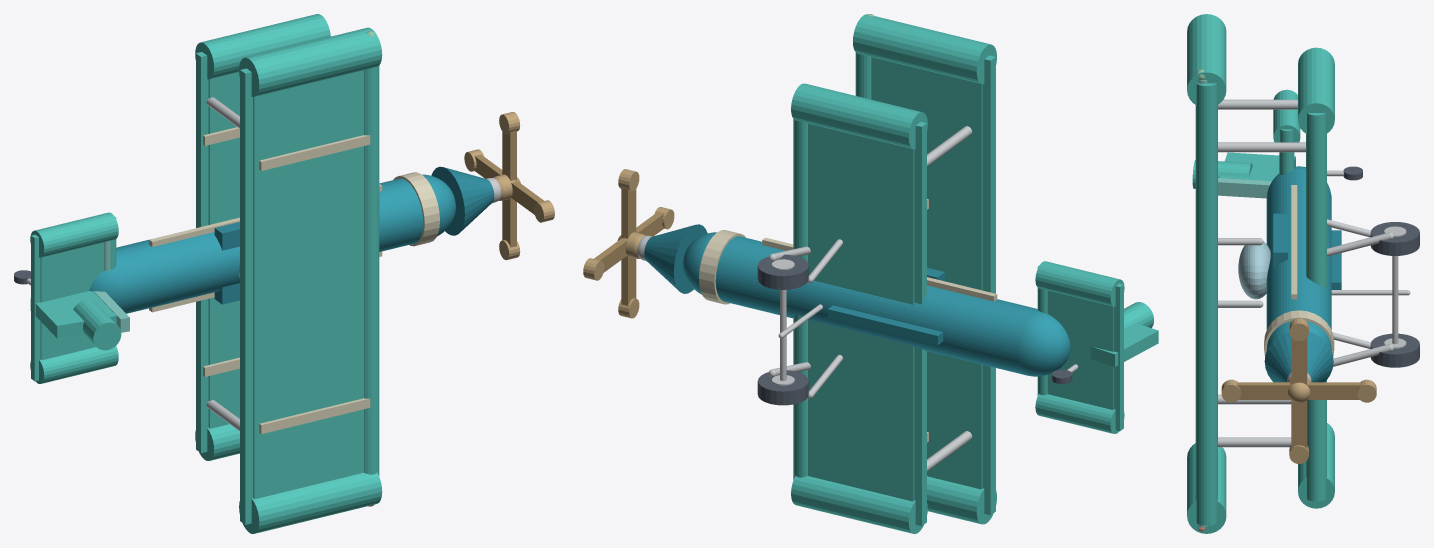
Rendered from biplano_low_poly_v4_smooth.glb.
The picture shows the model from 3 angles, left to right: view 1: azimuth 30°, elevation 25°; view 2: azimuth 150°, elevation 25°; view 3: azimuth 270°, elevation 25°; orthographic projection. The views are drawn at different scales.
Visible parts, largest first — view 1: world; view 2: world; view 3: world.
Part boxes in pixels (x1,y1,x2,y2): world: [14, 14, 554, 533]; world: [583, 14, 1158, 533]; world: [1187, 14, 1419, 533].
Size of the model in its own units: 4.56 by 4.14 by 1.89.
